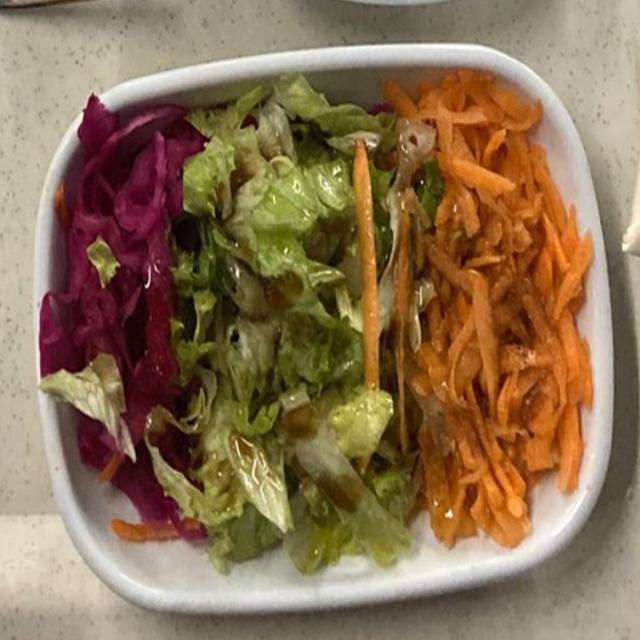yan_yemek: (37, 53, 602, 587)
